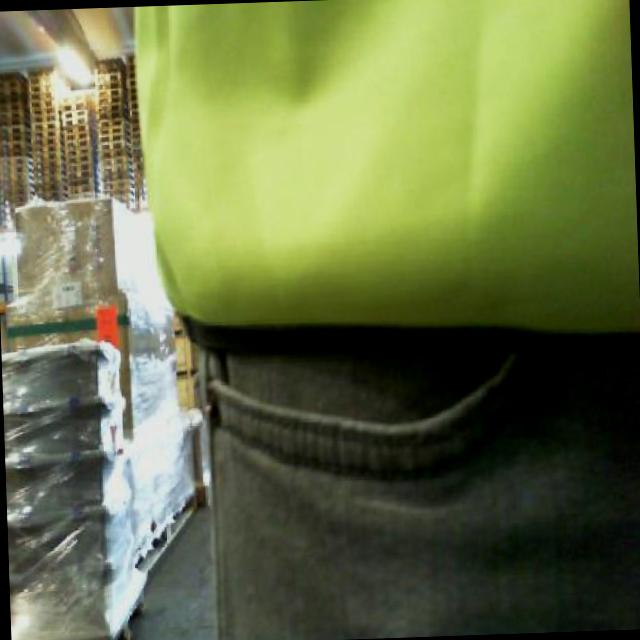pallet: (0, 49, 129, 198)
